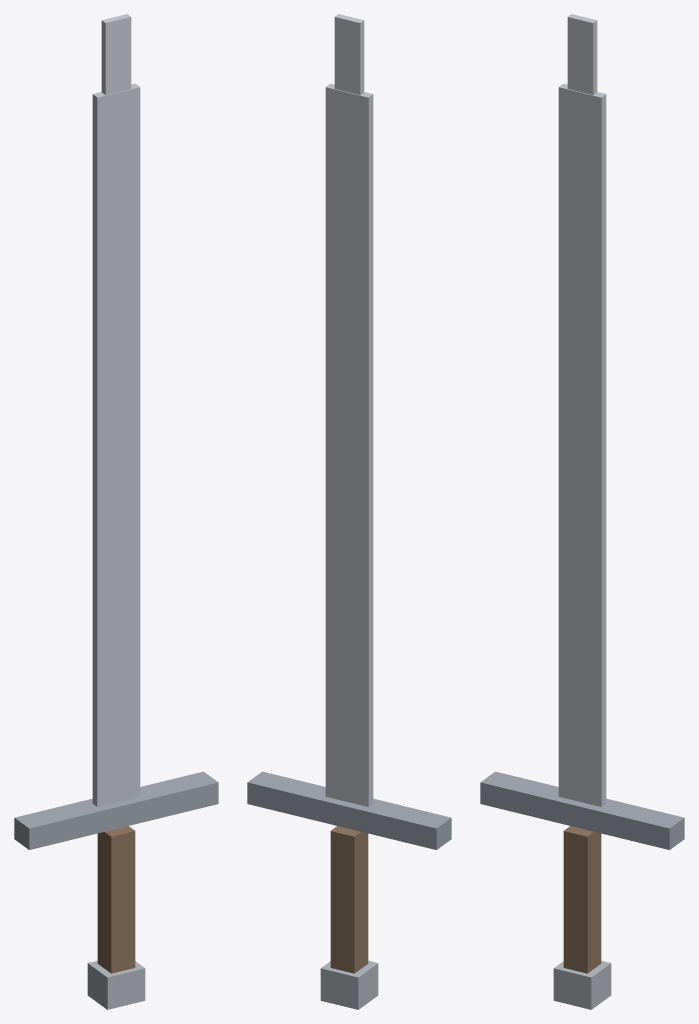
File: weapon_broadsword.glb
3 renders of one model, left to right at view 1: azimuth 30°, elevation 25°; view 2: azimuth 150°, elevation 25°; view 3: azimuth 330°, elevation 25°, orthographic.
Visible parts, largest first — view 1: BroadswordRoot; view 2: BroadswordRoot; view 3: BroadswordRoot.
Part boxes in pixels (x1,y1,x2,y2): BroadswordRoot: (14, 14, 218, 1009); BroadswordRoot: (247, 14, 451, 1009); BroadswordRoot: (480, 14, 684, 1009).
Size of the model in its own units: 0.22 by 1.09 by 0.04.
